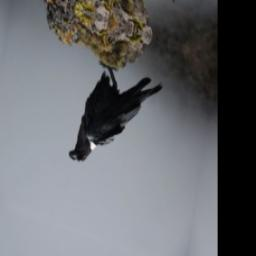Crow: (67, 48, 166, 194)
